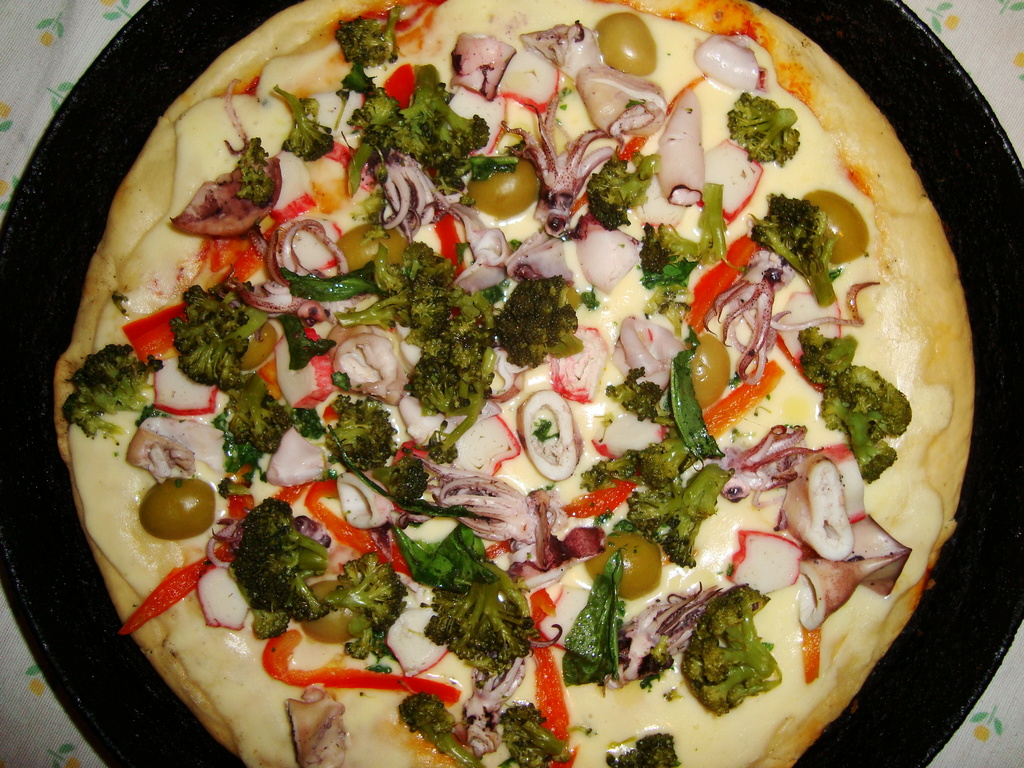Pizza: (46, 0, 974, 766)
